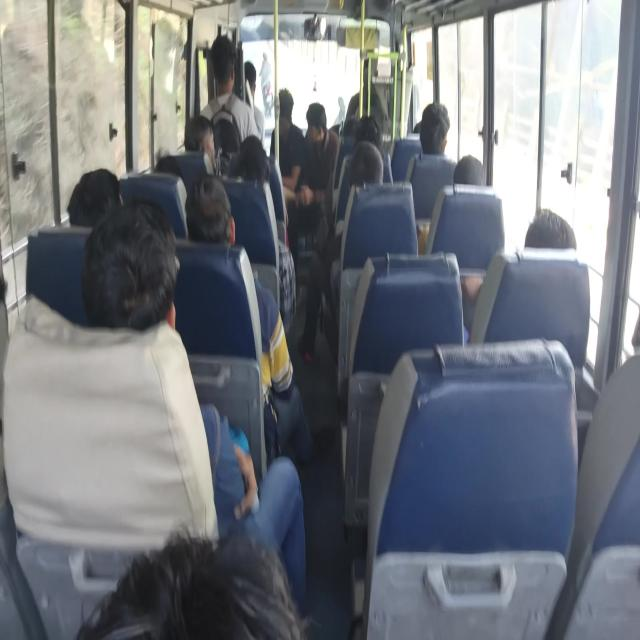person: (78, 466, 235, 640), (95, 214, 186, 384), (527, 207, 585, 274), (70, 178, 127, 242), (182, 178, 228, 248), (457, 145, 500, 210), (615, 277, 640, 383), (423, 101, 457, 161), (278, 90, 312, 149), (309, 100, 342, 158), (212, 29, 240, 92), (156, 146, 194, 192), (348, 146, 388, 189), (236, 149, 272, 190), (187, 106, 219, 152), (357, 119, 385, 160), (242, 128, 268, 170), (401, 115, 422, 140), (344, 113, 359, 137), (249, 75, 262, 102)
